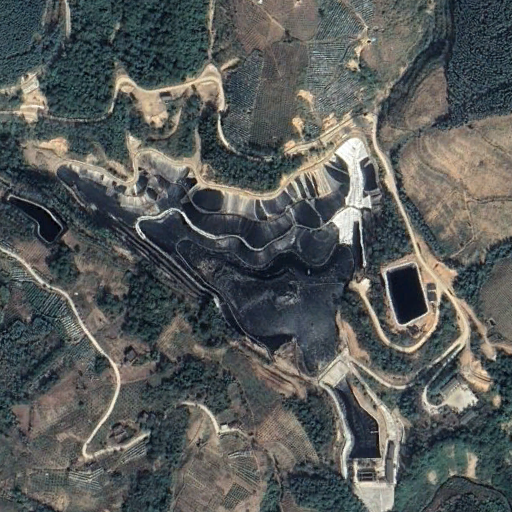lf: (57, 135, 376, 375)
